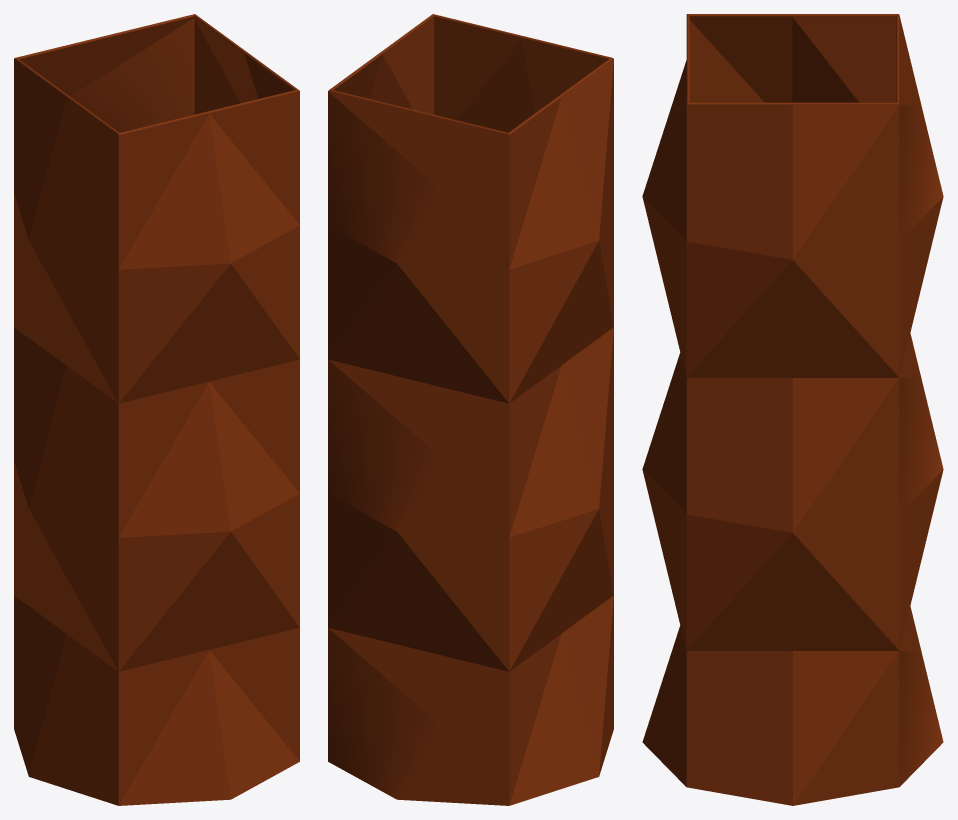
File: NET-8lados-Vaso-Terracota.fbx
The picture shows the model from 3 angles, left to right: view 1: azimuth 30°, elevation 25°; view 2: azimuth 150°, elevation 25°; view 3: azimuth 270°, elevation 25°; orthographic projection.
Parts seen in each view (by area): view 1: default; view 2: default; view 3: default.
Boxes of the visible parts, x1,y1,x2,y2 form: default: [14, 14, 299, 805]; default: [328, 14, 613, 805]; default: [642, 14, 943, 805].
Size of the model in its own units: 91.92 by 230 by 91.92.
